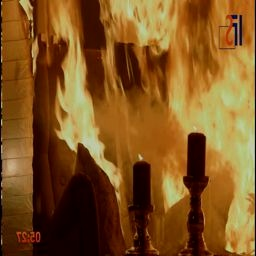fire: (16, 2, 253, 256)
